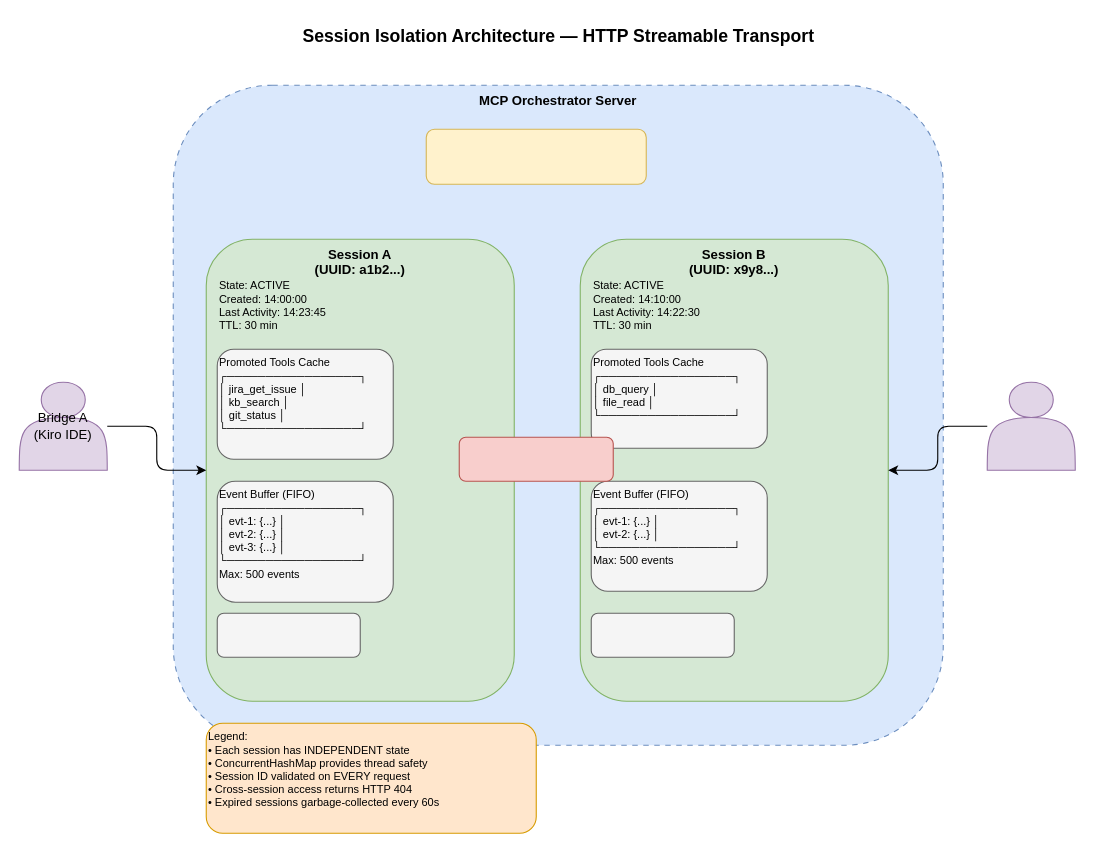
The diagram is 1095 pixels wide and 853 high, and some of its shapes have lost their labels. The shapes that lost their labels are listed below. From the top down, each one's centre as x and y in pixels, then its label:
At pixel 535 156: "SessionManager (ConcurrentHashMap)".
At pixel 1030 425: "Bridge B (Cursor IDE)".
At pixel 535 458: "✗ NO SHARED MUTABLE STATE".
At pixel 288 634: "Event Counter: 3 (AtomicLong)".
At pixel 662 634: "Event Counter: 2 (AtomicLong)".
